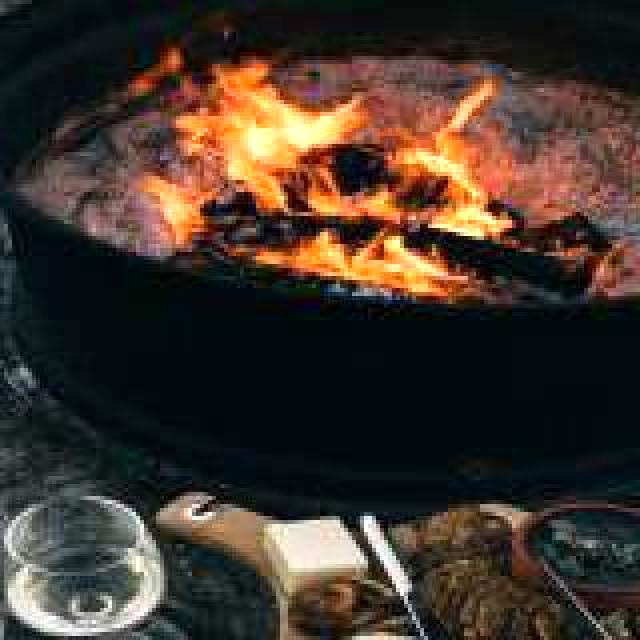fire: (120, 36, 536, 308)
